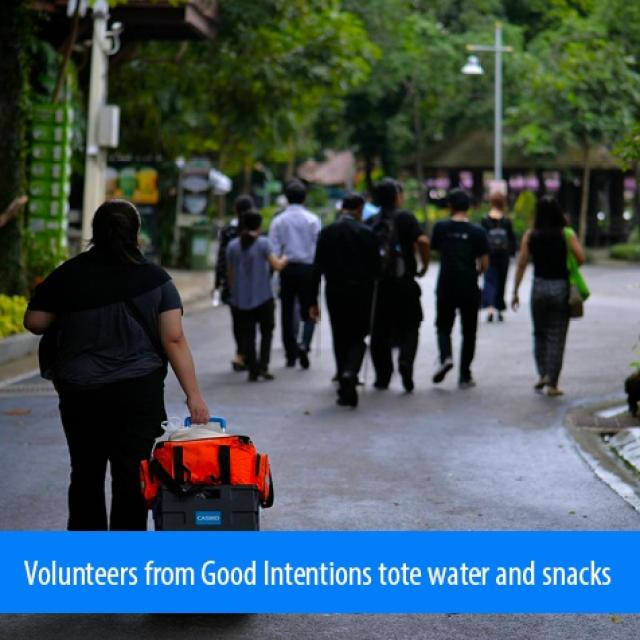body: (19, 195, 215, 534), (304, 191, 382, 409), (508, 192, 590, 398), (362, 176, 433, 395), (426, 187, 489, 390), (221, 207, 293, 382), (265, 178, 325, 372), (208, 194, 256, 371), (473, 188, 518, 324)
